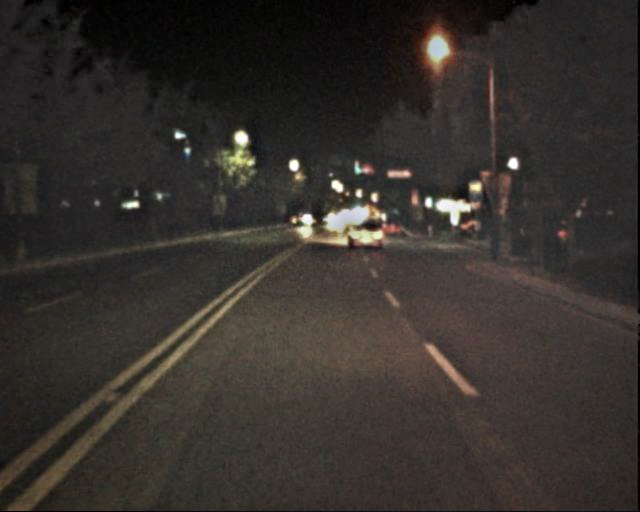person: (484, 221, 506, 271)
